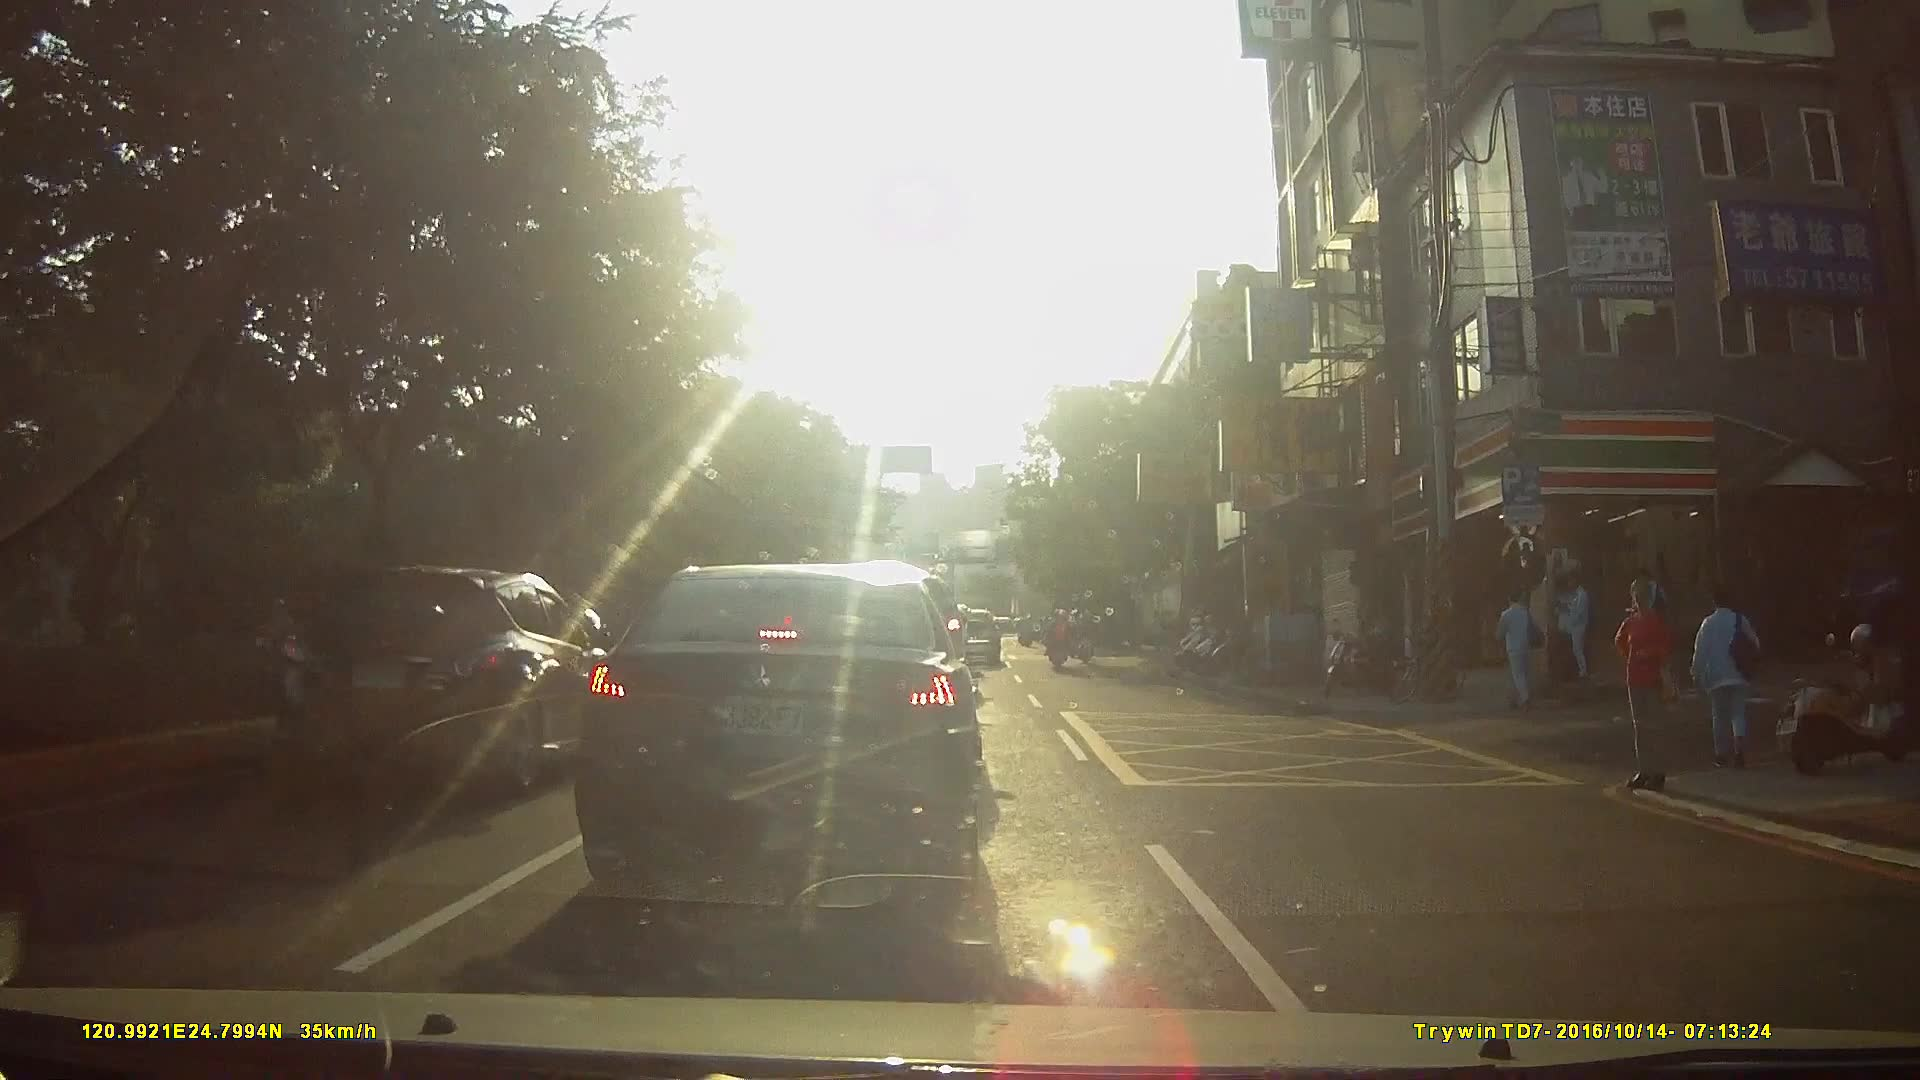pedestrian: (1609, 580, 1676, 790), (1685, 582, 1761, 766), (1493, 584, 1547, 714), (1553, 570, 1594, 680), (1550, 570, 1572, 685)
rider: (1044, 608, 1077, 673), (1066, 607, 1091, 660)
vehicle: (569, 561, 1004, 896), (266, 563, 639, 812)
